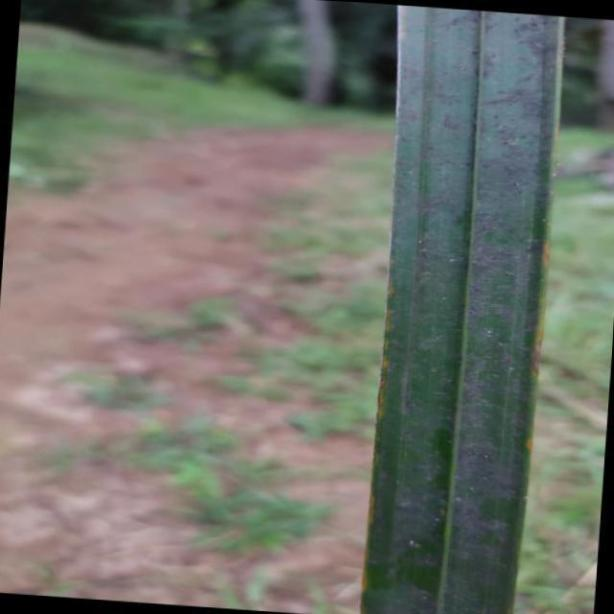Kalium: (363, 0, 566, 614)
